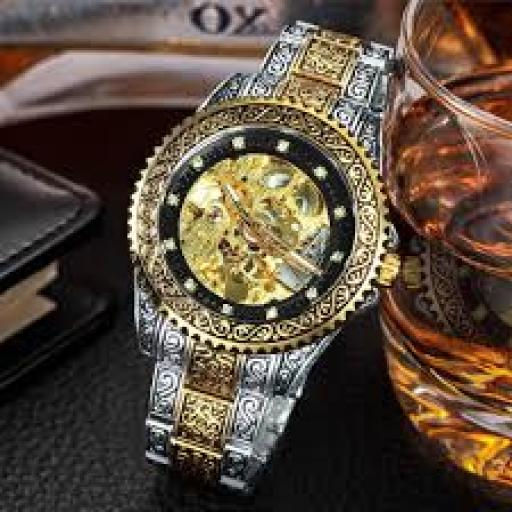KolSaati: (64, 5, 450, 492)
